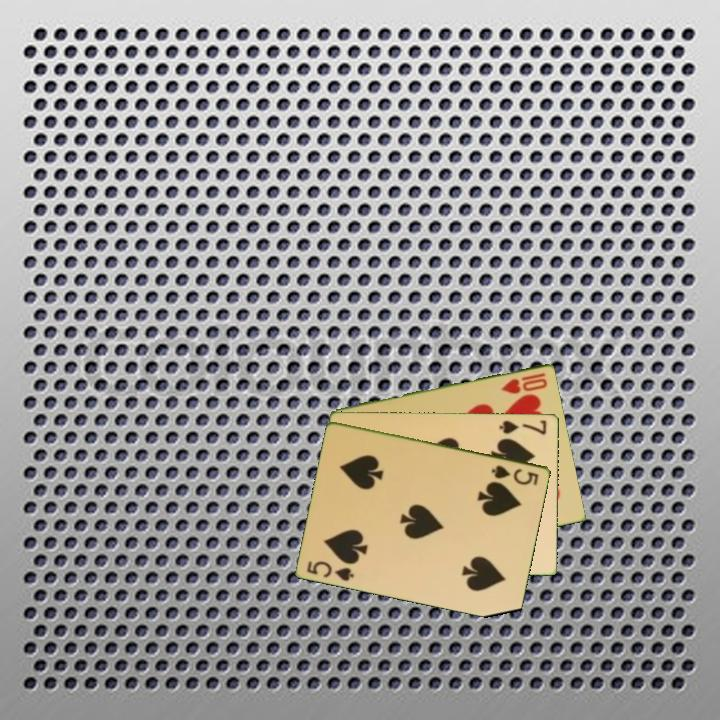10h: (498, 369, 550, 397)
5s: (488, 461, 542, 488), (304, 557, 357, 584)
7s: (496, 416, 549, 437)
